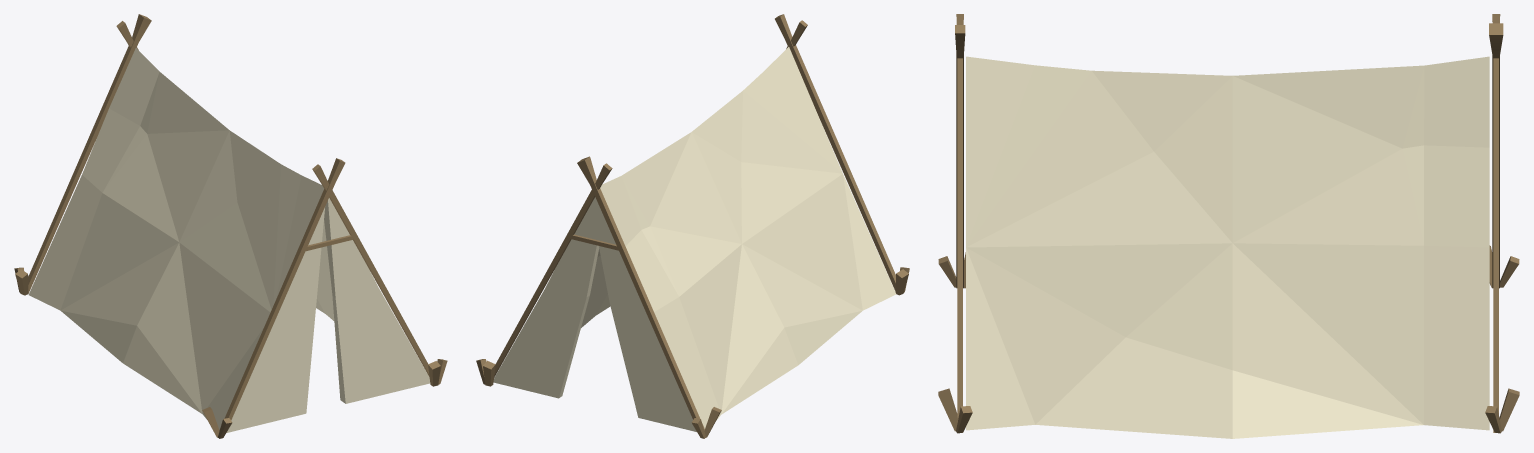
File: model_polytope_tent02.fbx
3 views of the same model, side by side, from view 1: azimuth 30°, elevation 25°; view 2: azimuth 150°, elevation 25°; view 3: azimuth 270°, elevation 25° (orthographic). The views are drawn at different scales.
Visible parts, largest first — view 1: model_polytope_tent02; view 2: model_polytope_tent02; view 3: model_polytope_tent02.
Part boxes in pixels (box(x1,y1,x2,y2)): model_polytope_tent02: box(14, 14, 447, 438); model_polytope_tent02: box(476, 14, 909, 438); model_polytope_tent02: box(938, 14, 1519, 438).
Size of the model in its own units: 249 by 246 by 380.
